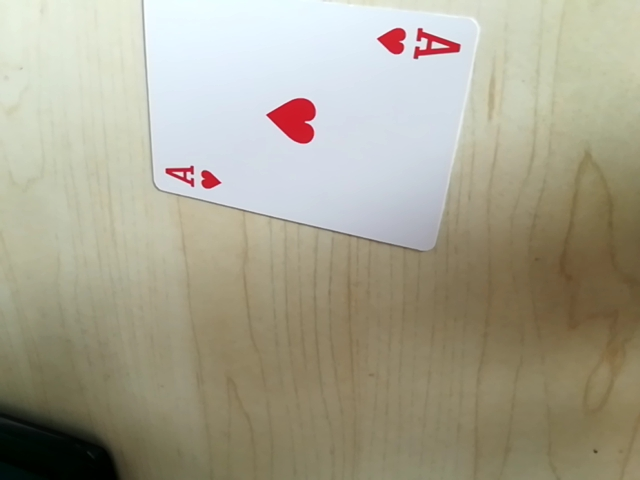hx a: (375, 19, 463, 70), (159, 156, 230, 195)
